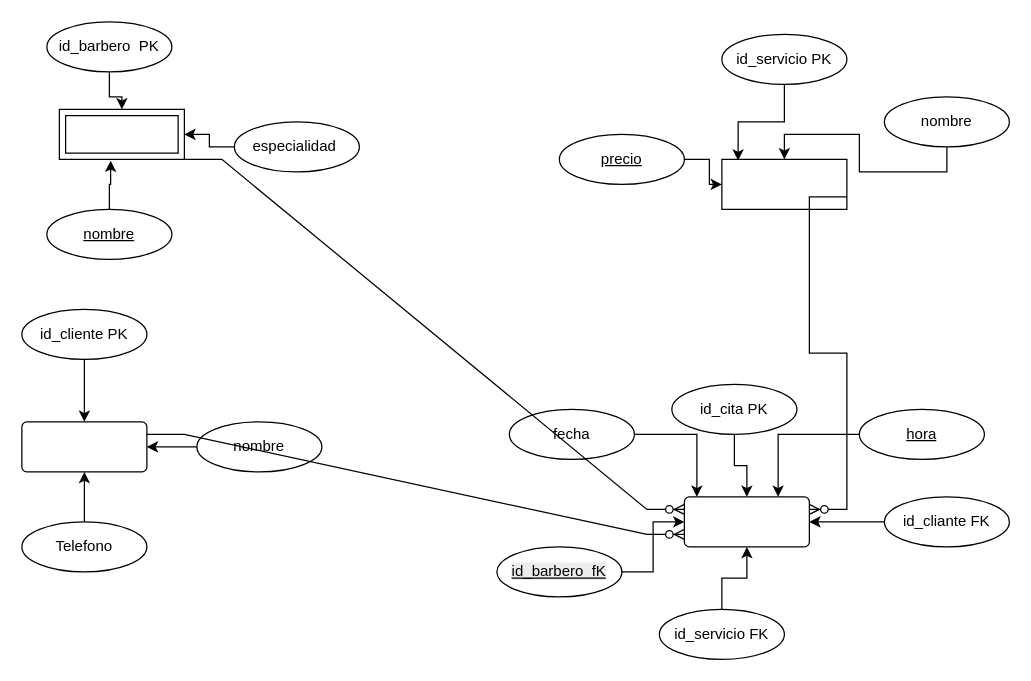
Image size: 1031x681. Some labels were removed from this diagram. Each missing label, with the centre of its shape:
Barbero: (121,133)
cita: (746,521)
Cliente: (84,446)
servicio: (784,183)
